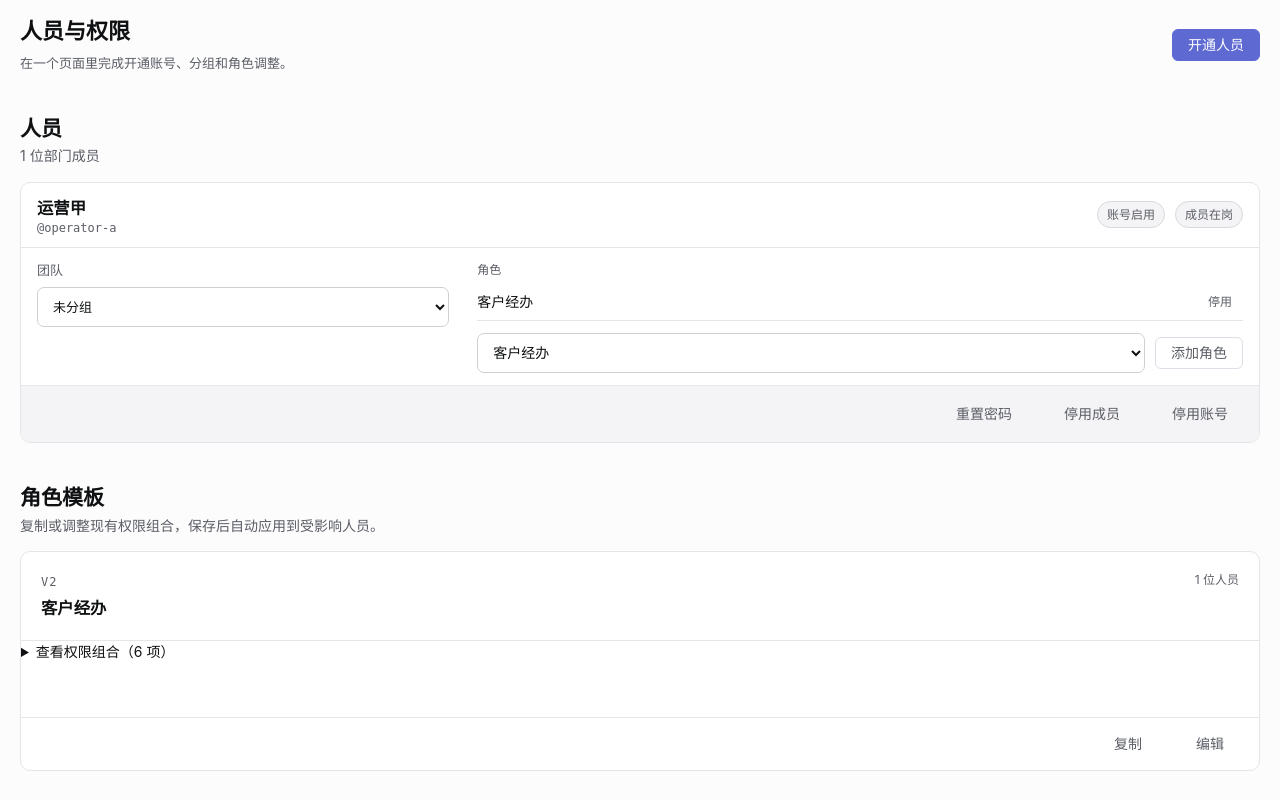
PeopleAccessPage › opens role template editing with an automatic impact preview
Click the button with test id "edit-role-role-1" at (1210, 744), box x1=1181 y1=728 x2=1239 y2=760
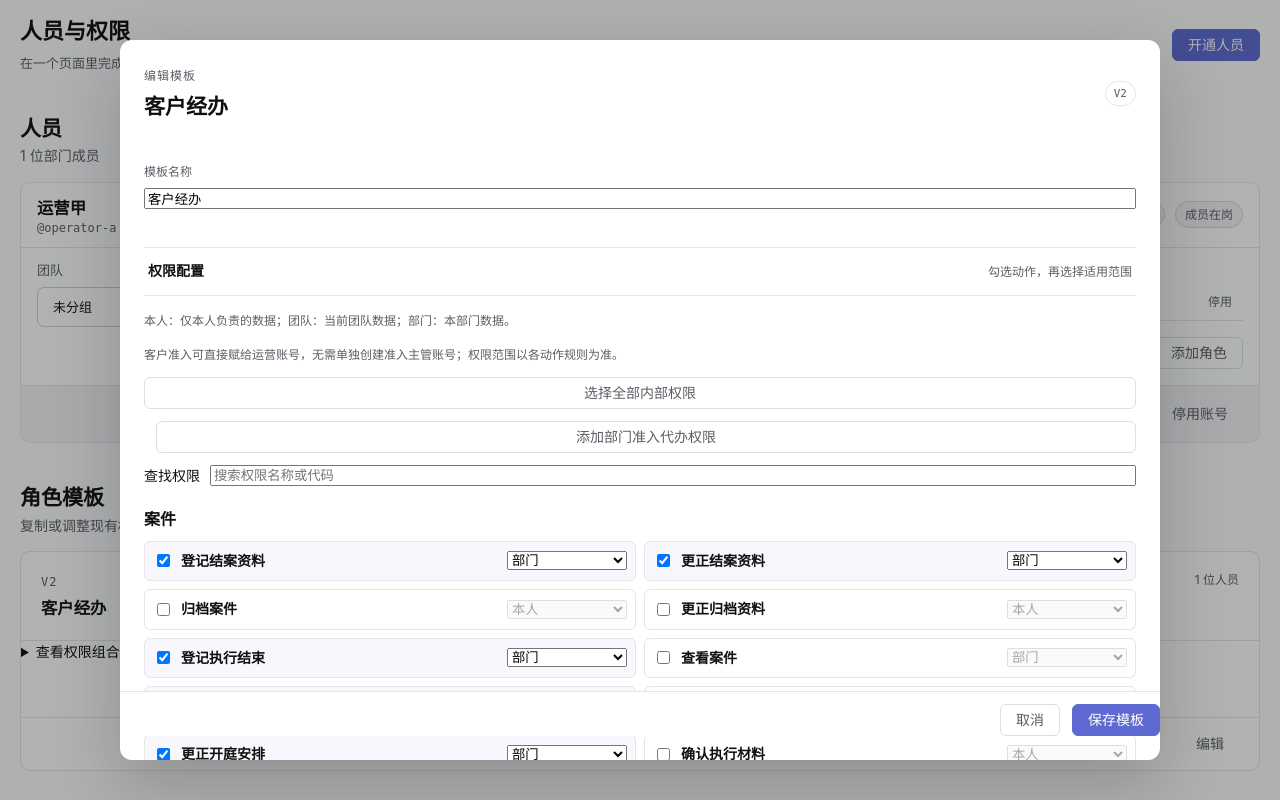
Expected: the field with test id "role-template-name" holds "客户经办", x1=144 y1=188 x2=1136 y2=209
